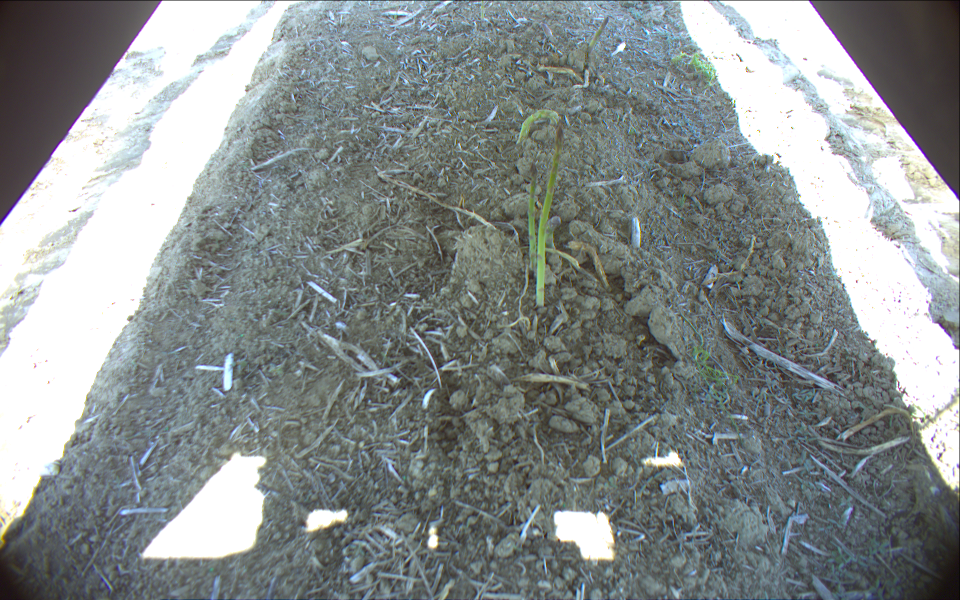aspa: (534, 121, 565, 305), (514, 108, 566, 143), (529, 164, 540, 274), (584, 18, 612, 56), (541, 22, 553, 38), (478, 1, 485, 21)
